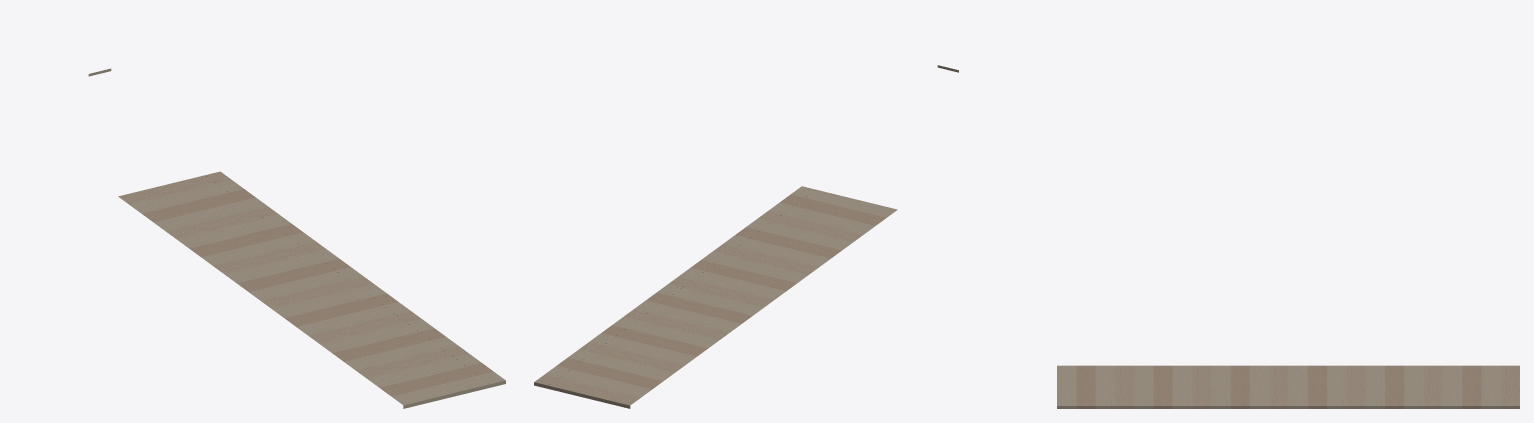
File: kd_stage_135d18_4_42.glb
The picture shows the model from 3 angles, left to right: view 1: azimuth 30°, elevation 25°; view 2: azimuth 150°, elevation 25°; view 3: azimuth 270°, elevation 25°; orthographic projection. The views are drawn at different scales.
Visible parts, largest first — view 1: kd_stage_135d18_4_42; view 2: kd_stage_135d18_4_42; view 3: kd_stage_135d18_4_42.
Part boxes in pixels (left/top/right/bottom): kd_stage_135d18_4_42: left=88, top=68, right=505, bottom=408; kd_stage_135d18_4_42: left=534, top=65, right=958, bottom=408; kd_stage_135d18_4_42: left=1057, top=365, right=1519, bottom=408.
Size of the model in its own units: 2.89 by 2.74 by 4.34.
1 material, 1 textured.
